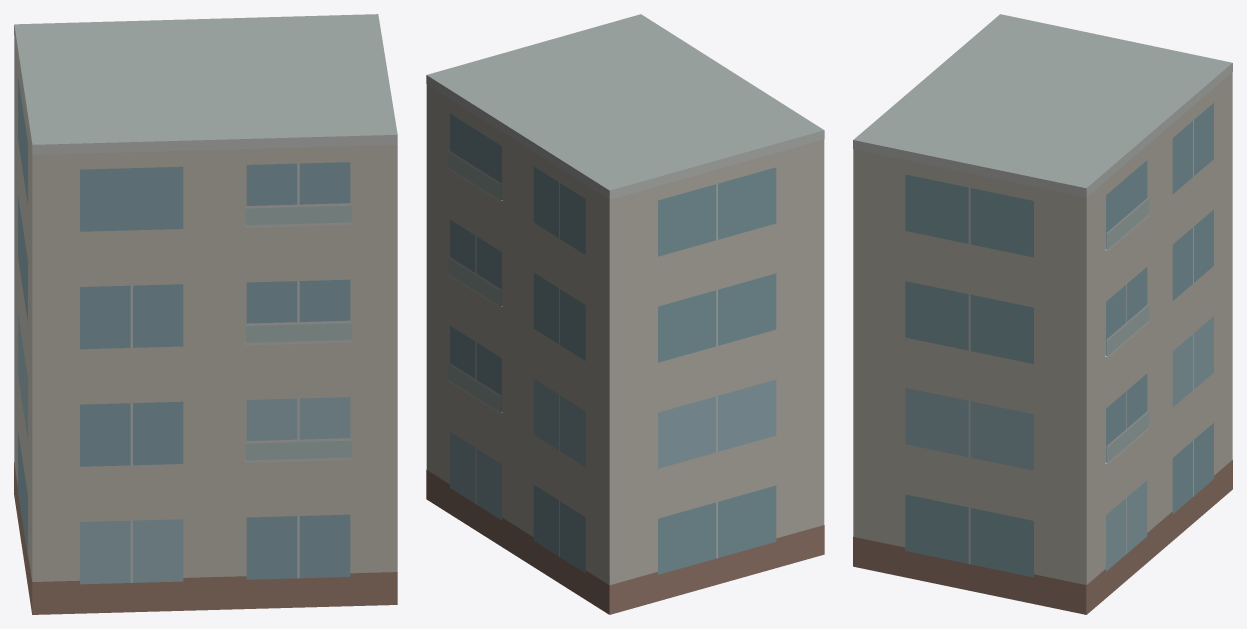
The model's file is survey-upis-32733027.glb.
The picture shows the model from 3 angles, left to right: view 1: azimuth 30°, elevation 25°; view 2: azimuth 150°, elevation 25°; view 3: azimuth 270°, elevation 25°; orthographic projection. The views are drawn at different scales.
Visible parts, largest first — view 1: survey-upis-32733027.tmp; view 2: survey-upis-32733027.tmp; view 3: survey-upis-32733027.tmp.
Part boxes in pixels (left/top/right/bottom): survey-upis-32733027.tmp: left=14, top=14, right=397, bottom=614; survey-upis-32733027.tmp: left=426, top=14, right=824, bottom=614; survey-upis-32733027.tmp: left=853, top=14, right=1232, bottom=614.
Bounding box in the file's own units: 10 × 11.4 × 9.2.
